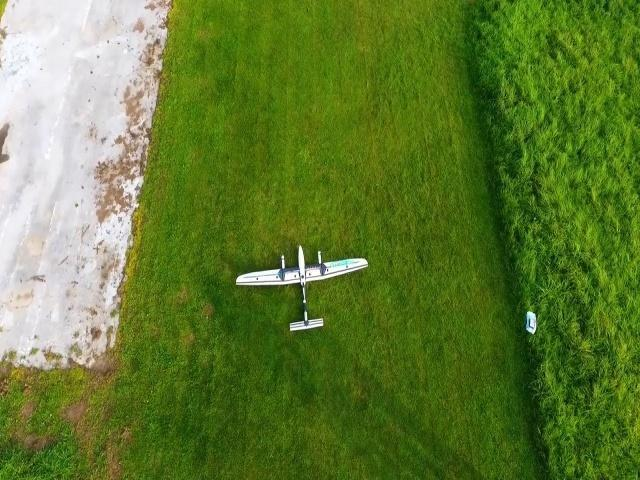Airplane: (230, 238, 372, 339)
